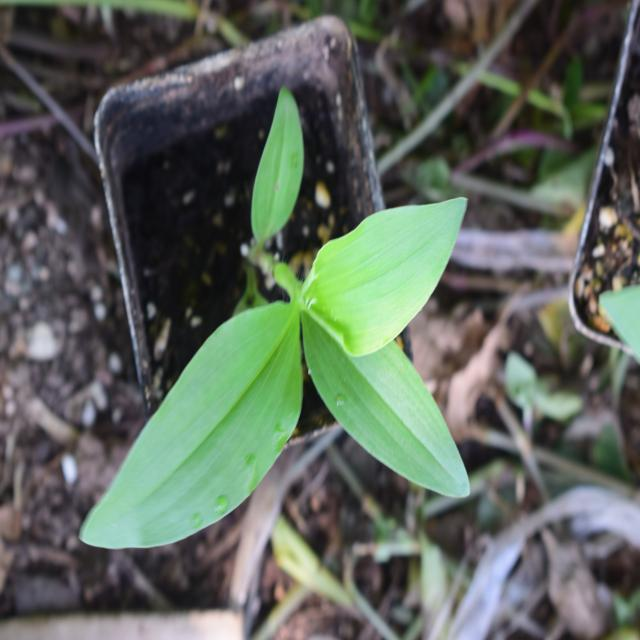Common Dayflower: (81, 153, 471, 535)
